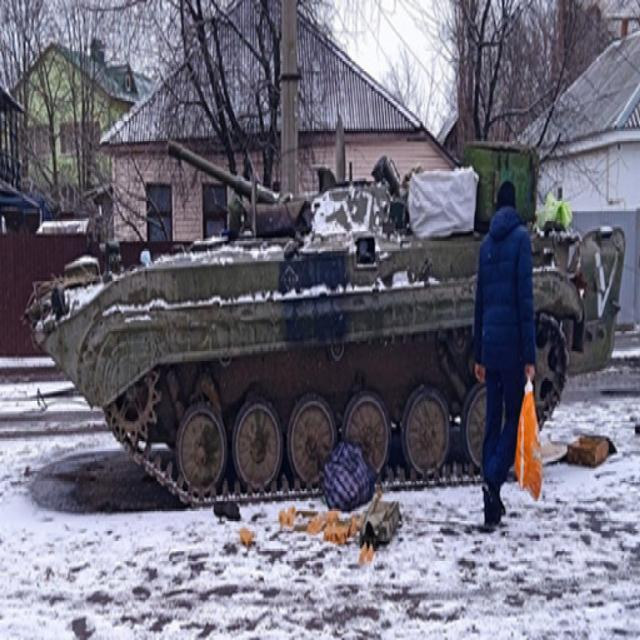APC-IFV: (21, 133, 595, 504)
